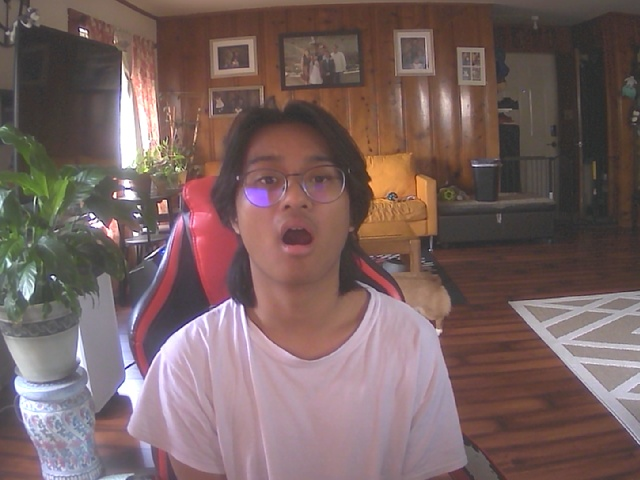fear: (229, 110, 361, 288)
